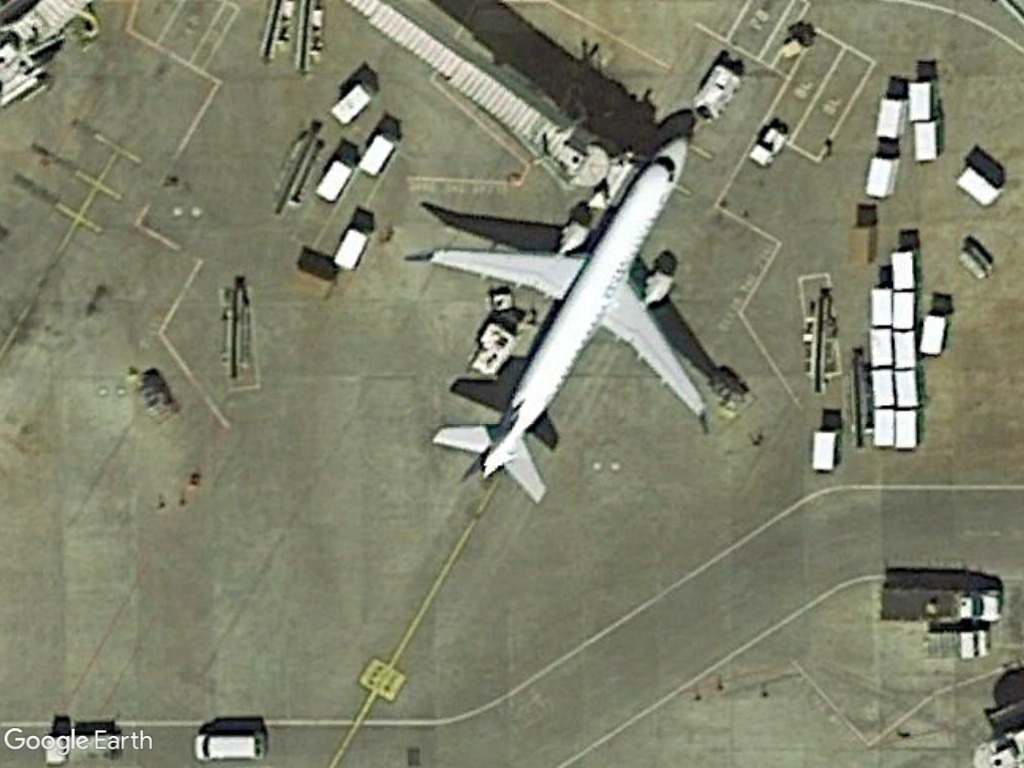airliner: (412, 126, 713, 508)
pushbacktruck: (685, 56, 746, 129)
van: (188, 727, 274, 765)
